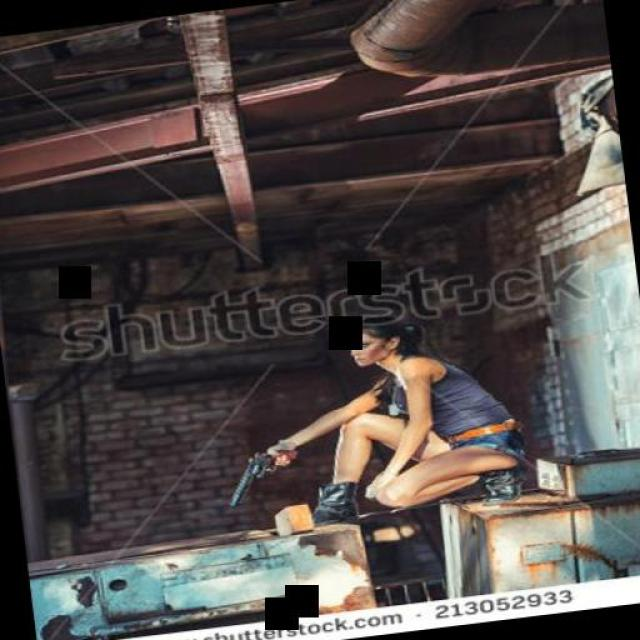gun: (218, 441, 302, 509)
